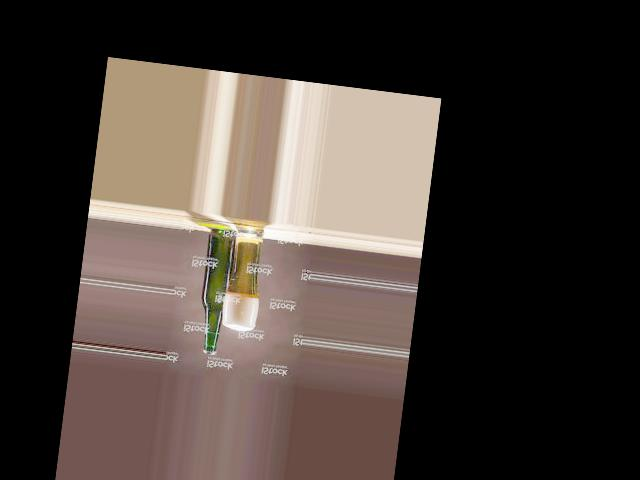beer: (194, 227, 237, 355)
